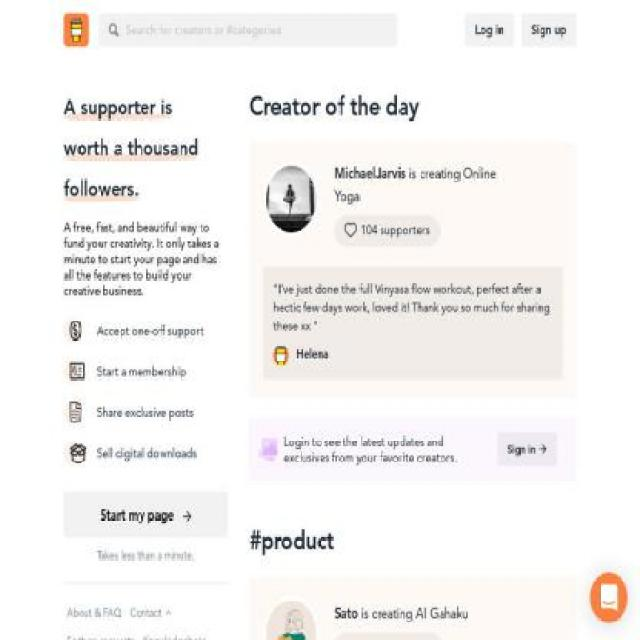button: (497, 432, 557, 466), (589, 572, 628, 623), (521, 14, 576, 46), (464, 14, 514, 46), (64, 14, 90, 46)
field: (98, 14, 397, 46)
